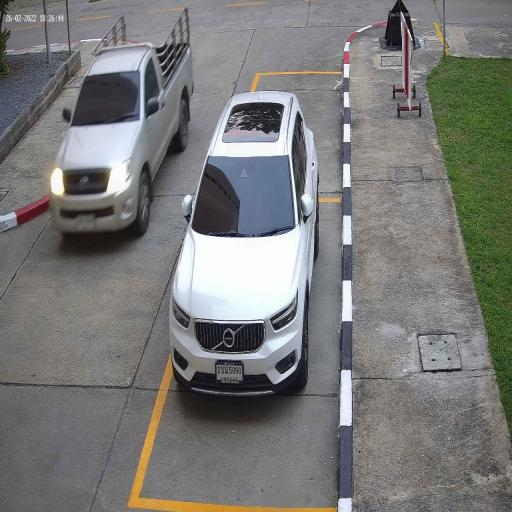car: (169, 90, 320, 403), (49, 40, 195, 239)
